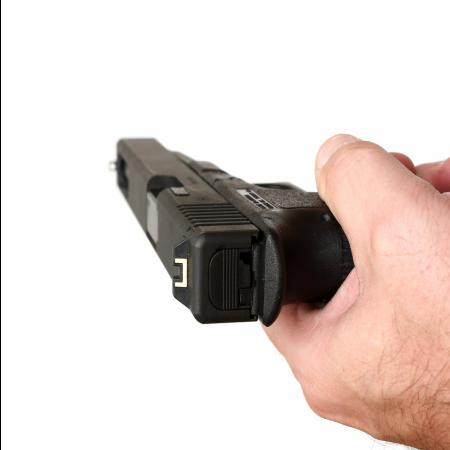Pistol: (102, 136, 358, 330)
